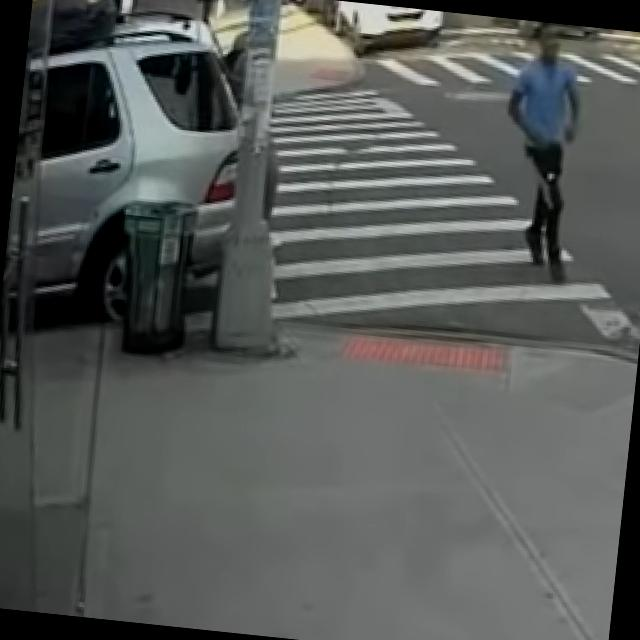person: (484, 26, 594, 280)
